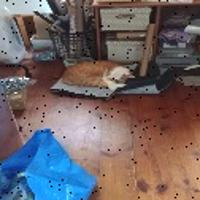asleep: (61, 60, 134, 88)
